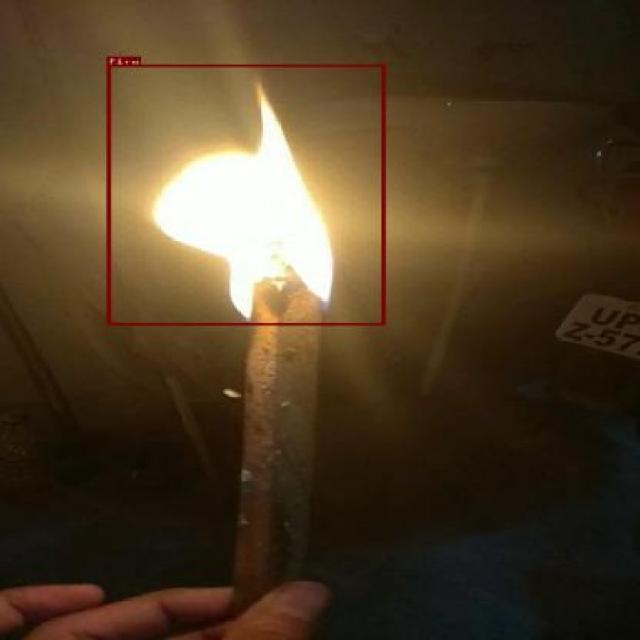Fire: (106, 64, 385, 326)
